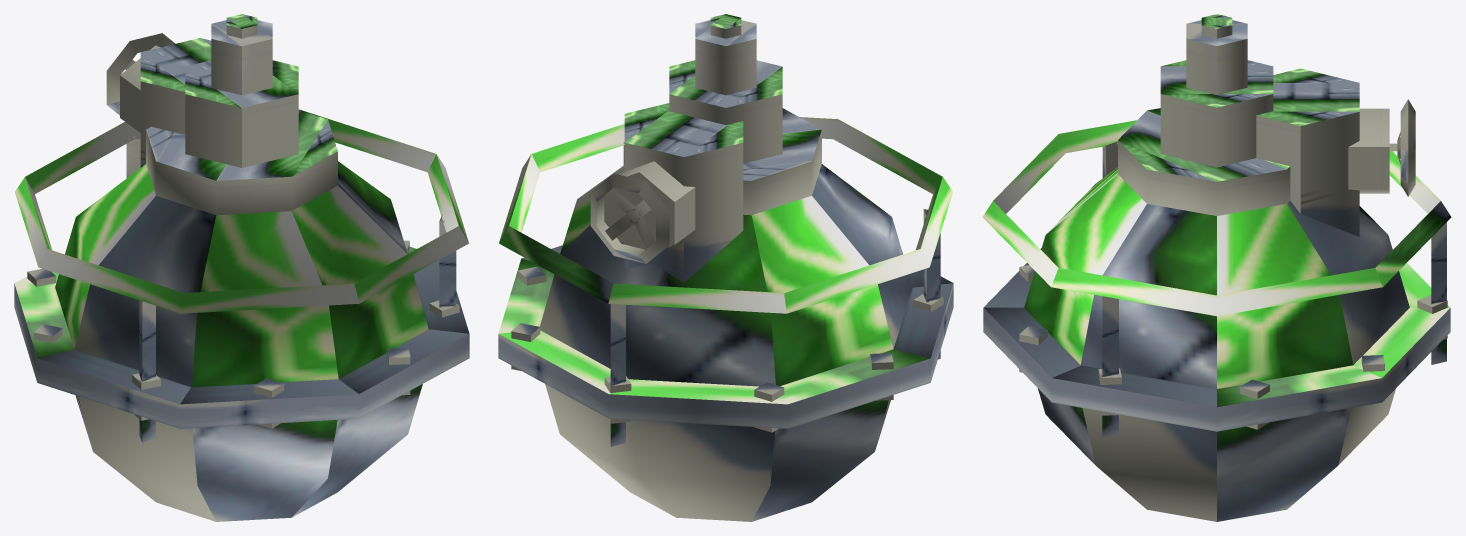
File: icon.ico.obj
3 renders of one model, left to right at view 1: azimuth 30°, elevation 25°; view 2: azimuth 150°, elevation 25°; view 3: azimuth 270°, elevation 25°, orthographic.
Bounding box in the file's own units: 3.93 × 4.44 × 3.91.
